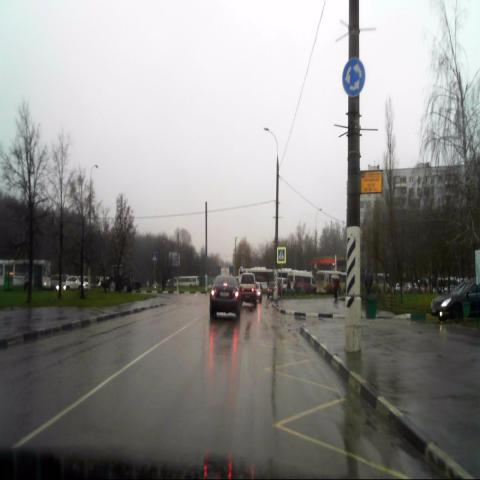4_3: (342, 59, 366, 96)
